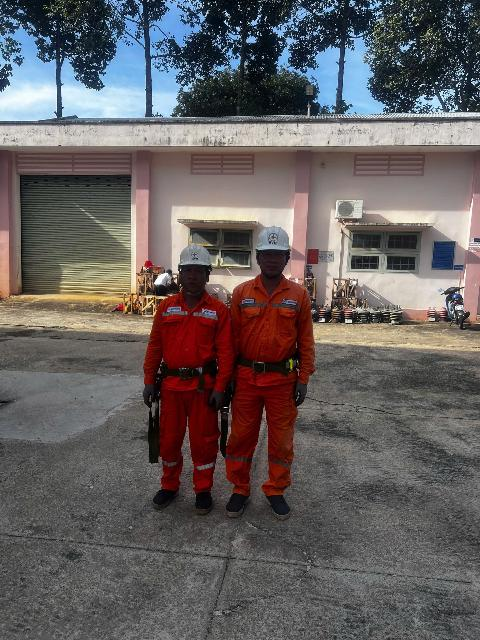gloves: (200, 383, 238, 422), (287, 377, 314, 403), (139, 378, 162, 405)
harness: (236, 346, 302, 380)
helmet: (167, 237, 227, 282), (248, 219, 294, 257)
shoes: (216, 478, 248, 518), (261, 488, 293, 518), (185, 485, 214, 517), (150, 481, 179, 509)
